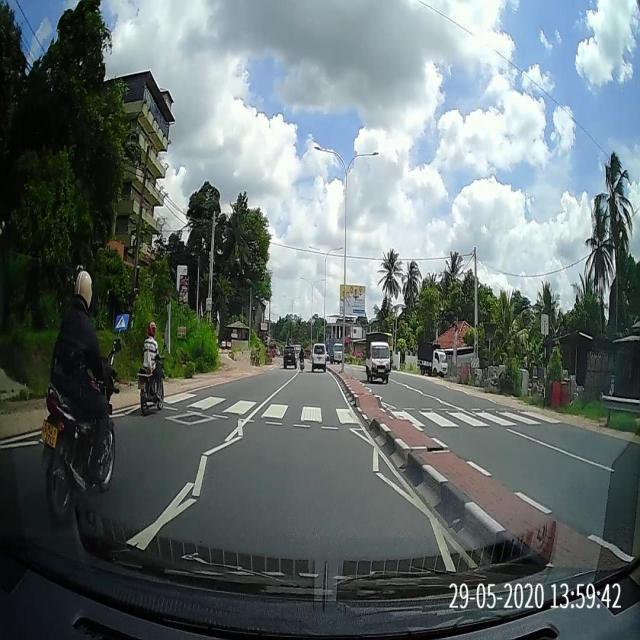Crosswalk: (162, 388, 569, 435)
